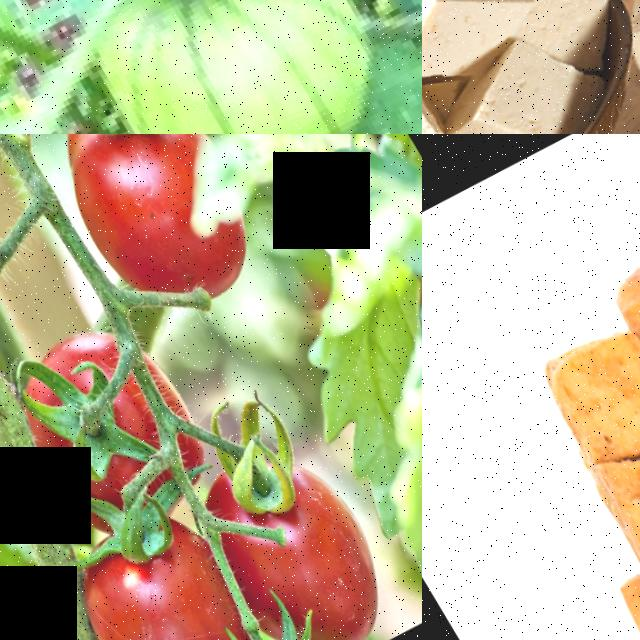tofu: (515, 309, 640, 486), (422, 32, 587, 134), (422, 0, 551, 98), (573, 418, 640, 585), (597, 231, 640, 429), (595, 0, 640, 104), (596, 548, 640, 640)
tomato: (17, 134, 280, 334), (36, 487, 271, 640)
